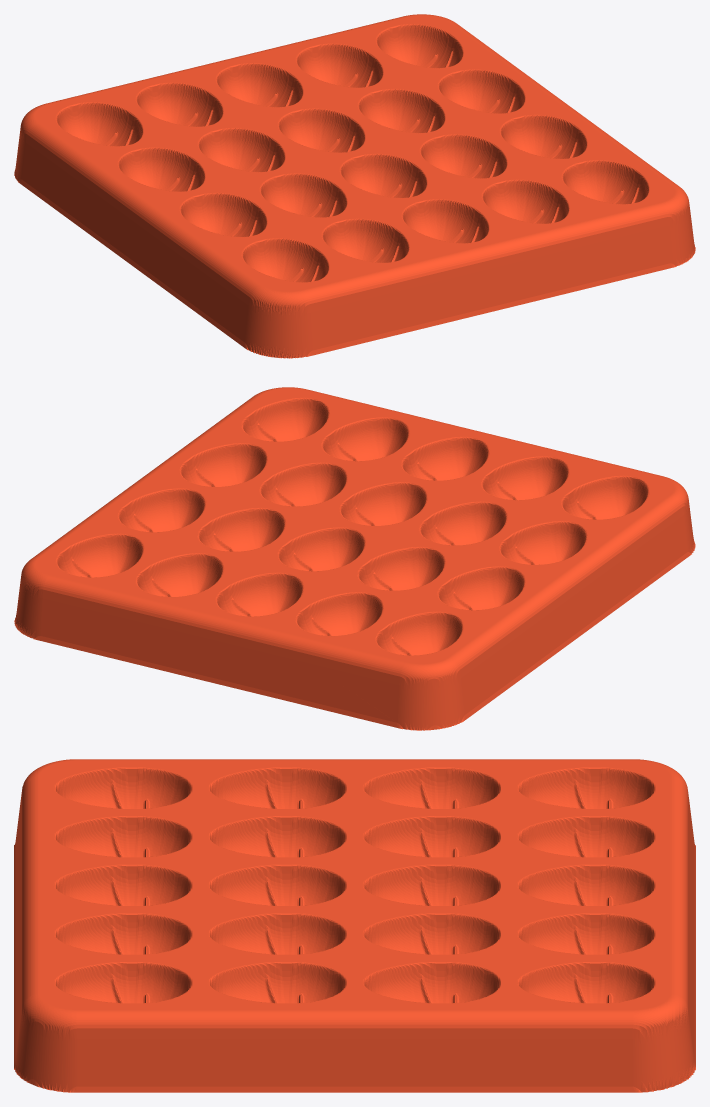
File: mold.glb
3 renders of one model, top to bottom at view 1: azimuth 30°, elevation 25°; view 2: azimuth 150°, elevation 25°; view 3: azimuth 270°, elevation 25°, orthographic. The views are drawn at different scales.
Parts seen in each view (by area): view 1: geometry_0; view 2: geometry_0; view 3: geometry_0.
Part boxes in pixels (x1,y1,x2,y2): geometry_0: (14,14,695,358); geometry_0: (14,387,695,730); geometry_0: (14,759,695,1092).
Bounding box in the file's own units: 0.0912 × 0.0114 × 0.0972.
